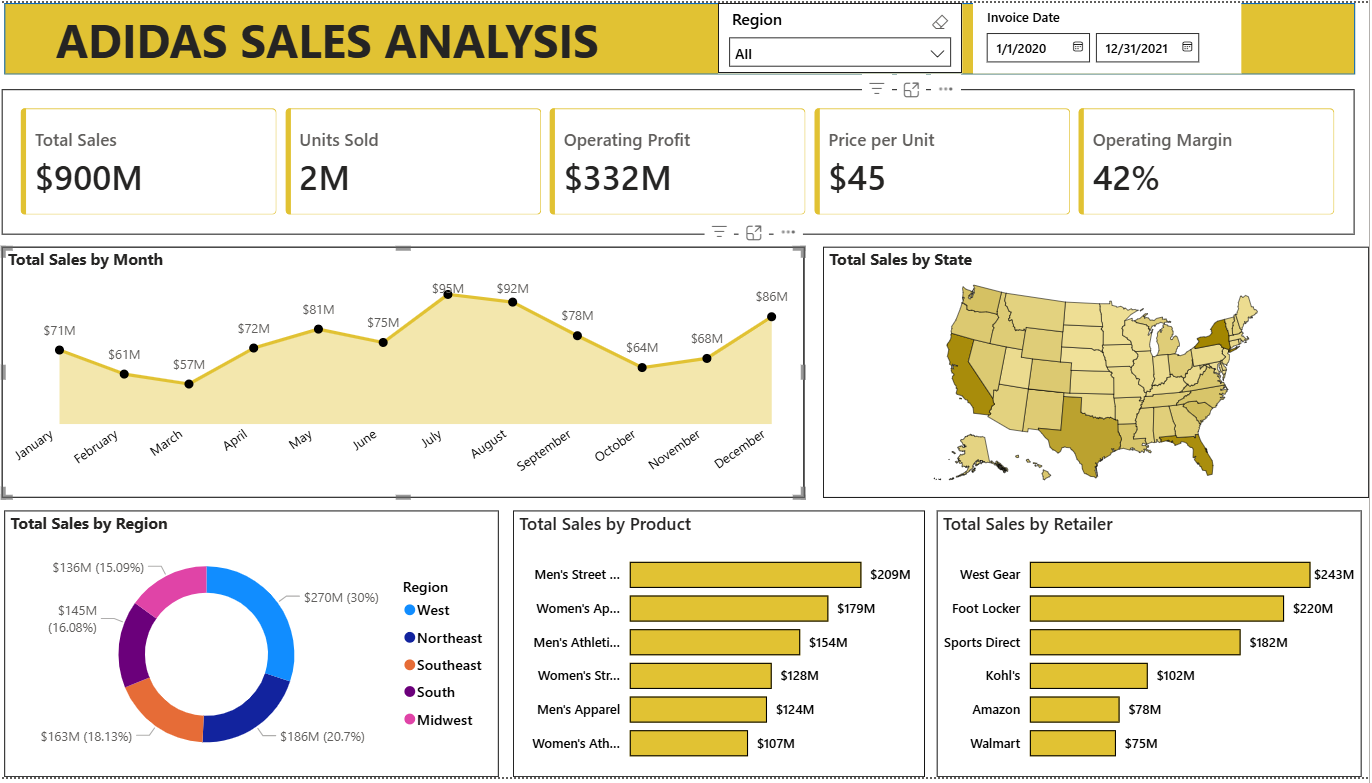

This screenshot's page, from the dashboard's own definition file:
{"tool":"powerbi","page":{"name":"Page 1","canvas":[1280,720],"ordinal":0},"visuals":[{"type":"shape","box":[10,0,1256.7,66.7],"z":0},{"type":"textbox","box":[53.3,0,530,68.3],"z":1000},{"type":"cardVisual","fields":{"Data":["Sum(Table 1 (Data Sales Adidas).Total Sales)","Sum(Table 1 (Data Sales Adidas).Units Sold)","Sum(Table 1 (Data Sales Adidas).Operating Profit)","Avg(Table 1 (Data Sales Adidas).Price per Unit)","Avg(Table 1 (Data Sales Adidas).Operating Margin)"]},"box":[8.3,80,1258.3,135],"z":2000},{"type":"areaChart","title":"Total Sales by Month","fields":{"Y":["Sum(Table 1 (Data Sales Adidas).Total Sales)"],"Category":["Table 1 (Data Sales Adidas).Invoice Date.Variation.Date Hierarchy.Month"]},"box":[8.3,226.7,746.7,233.3],"z":3000},{"type":"shapeMap","title":"Total Sales by State","fields":{"Category":["Table 1 (Data Sales Adidas).State"],"Value":["Sum(Table 1 (Data Sales Adidas).Total Sales)"]},"box":[771.7,226.7,508.3,233.3],"z":4000},{"type":"donutChart","fields":{"Category":["Table 1 (Data Sales Adidas).Region"],"Y":["Sum(Table 1 (Data Sales Adidas).Total Sales)"]},"box":[10,471.7,460,248.3],"z":5000},{"type":"barChart","title":"Total Sales by Product","fields":{"Category":["Table 1 (Data Sales Adidas).Product"],"Y":["Sum(Table 1 (Data Sales Adidas).Total Sales)"]},"box":[483.3,471.7,383.3,248.3],"z":6000},{"type":"barChart","title":"Total Sales by Retailer","fields":{"Y":["Sum(Table 1 (Data Sales Adidas).Total Sales)"],"Category":["Table 1 (Data Sales Adidas).Retailer"]},"box":[878.3,471.7,395,248.3],"z":7000},{"type":"slicer","fields":{"Values":["Table 1 (Data Sales Adidas).Region"]},"box":[674.6,0,226.9,65.7],"z":8000},{"type":"slicer","fields":{"Values":["Table 1 (Data Sales Adidas).Invoice Date"]},"box":[911.9,0,249.3,65.7],"z":9000}]}

Visuals, with their boxes in screenshot pixels (x1, y1, x2, y2), scaled from the page's 1280x720 canvas onto the 1372x783 screenshot:
shape: pyautogui.locateOnScreen(11, 0, 1358, 73)
textbox: pyautogui.locateOnScreen(57, 0, 625, 74)
cardVisual - Sum(Table 1 (Data Sales Adidas).Total Sales) x Sum(Table 1 (Data Sales Adidas).Units Sold): pyautogui.locateOnScreen(9, 87, 1358, 234)
"Total Sales by Month" areaChart: pyautogui.locateOnScreen(9, 247, 809, 500)
"Total Sales by State" shapeMap: pyautogui.locateOnScreen(827, 247, 1371, 500)
donutChart - Table 1 (Data Sales Adidas).Region x Sum(Table 1 (Data Sales Adidas).Total Sales): pyautogui.locateOnScreen(11, 513, 504, 782)
"Total Sales by Product" barChart: pyautogui.locateOnScreen(518, 513, 929, 782)
"Total Sales by Retailer" barChart: pyautogui.locateOnScreen(941, 513, 1365, 782)
slicer - Table 1 (Data Sales Adidas).Region: pyautogui.locateOnScreen(723, 0, 966, 71)
slicer - Table 1 (Data Sales Adidas).Invoice Date: pyautogui.locateOnScreen(977, 0, 1245, 71)
